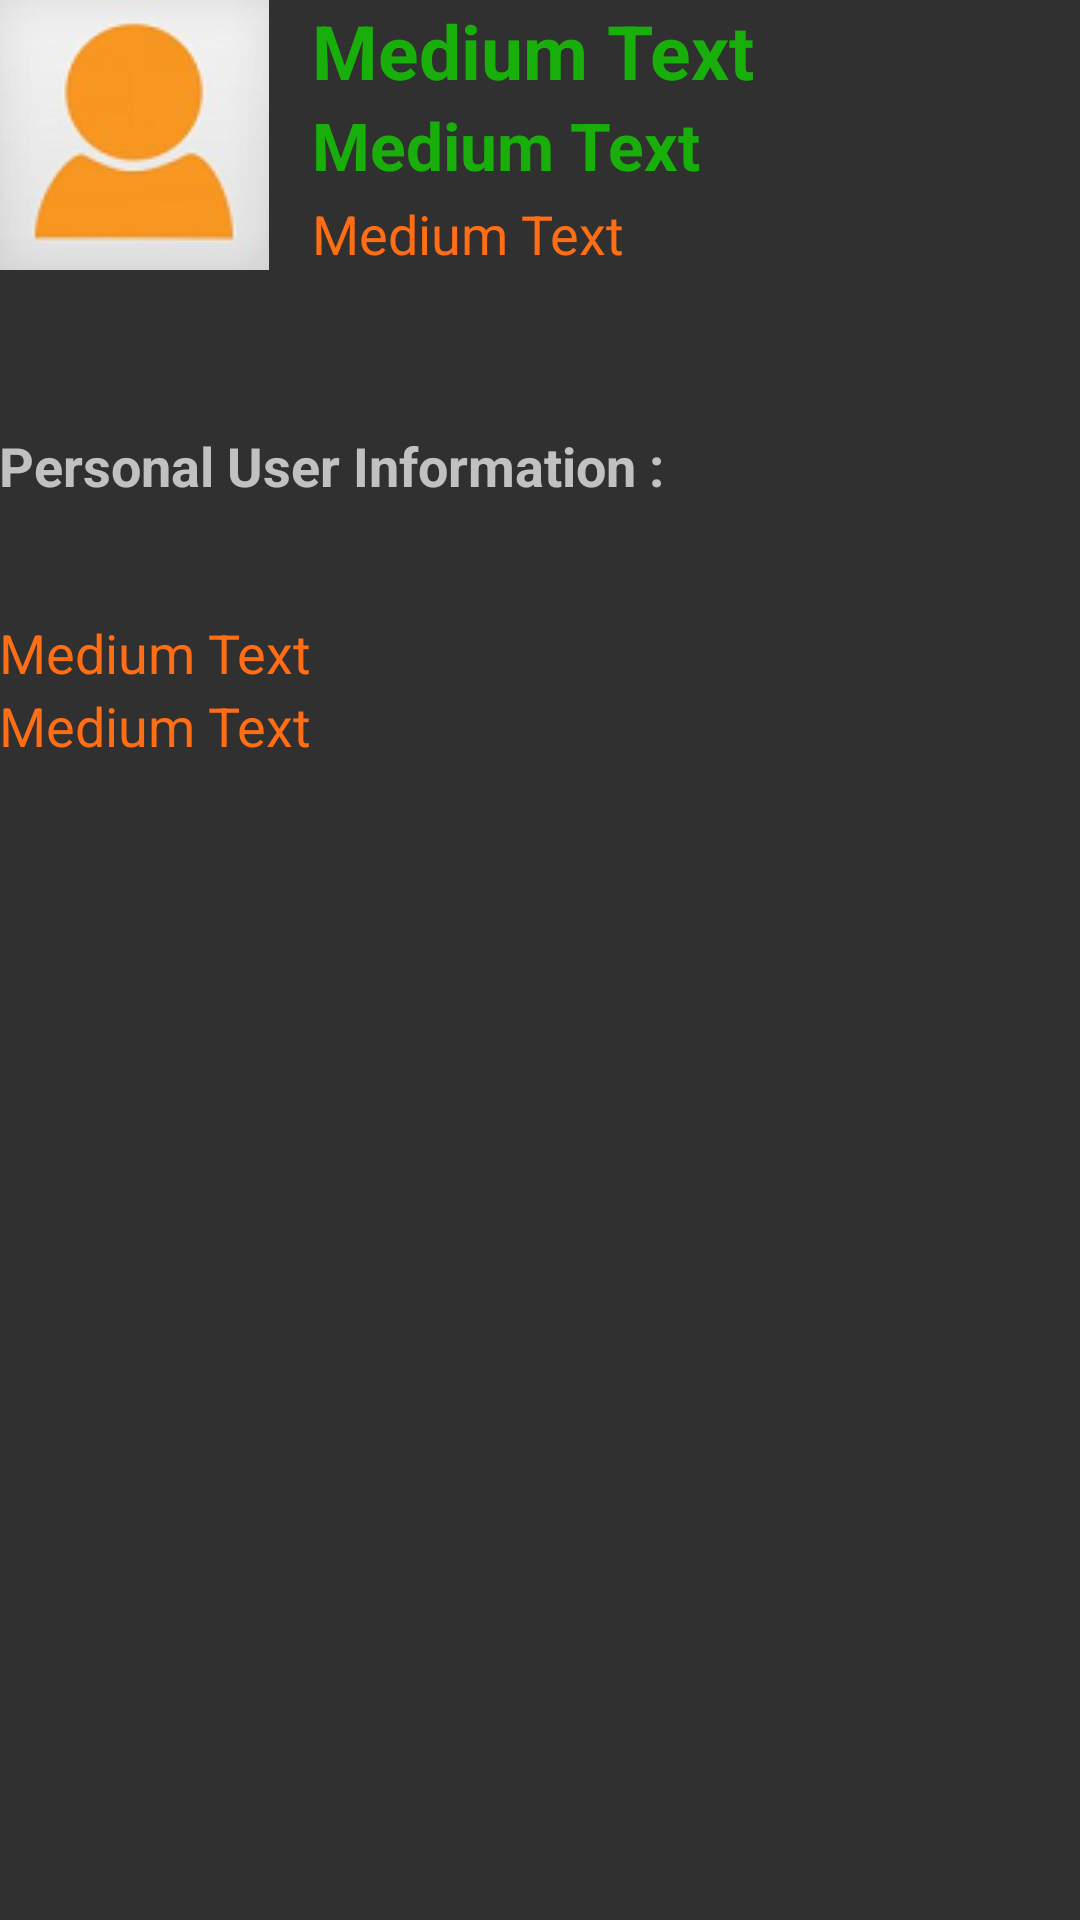

Point at icon controls on the screen. Image size 1080px x 1920px, points as (x=x, y=y).
userpic: (x=134, y=135)
